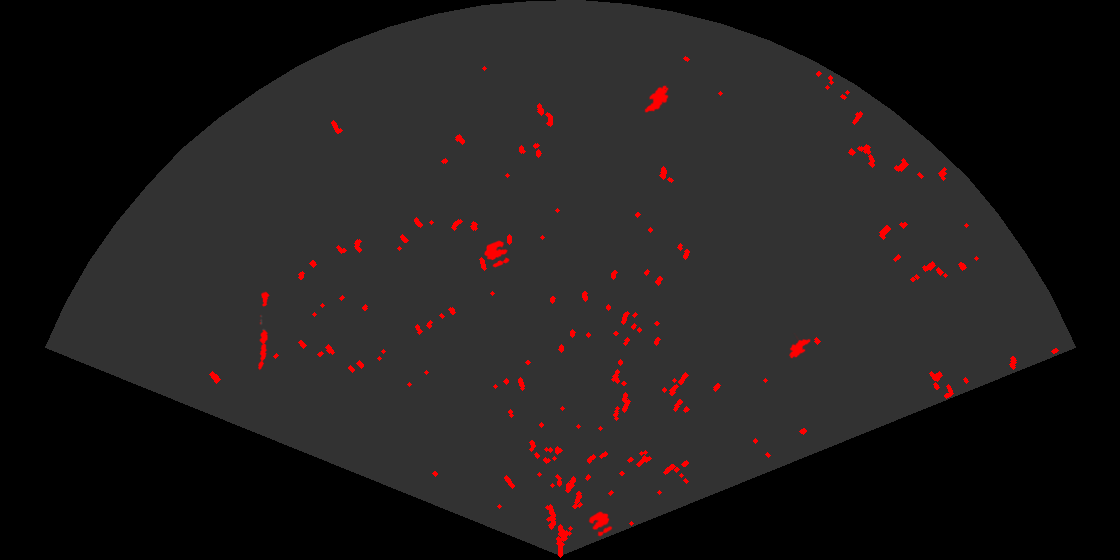AUV: (643, 84, 670, 114), (787, 333, 812, 360)
ball: (483, 239, 511, 269), (587, 510, 614, 538)
chain: (257, 291, 271, 371)
